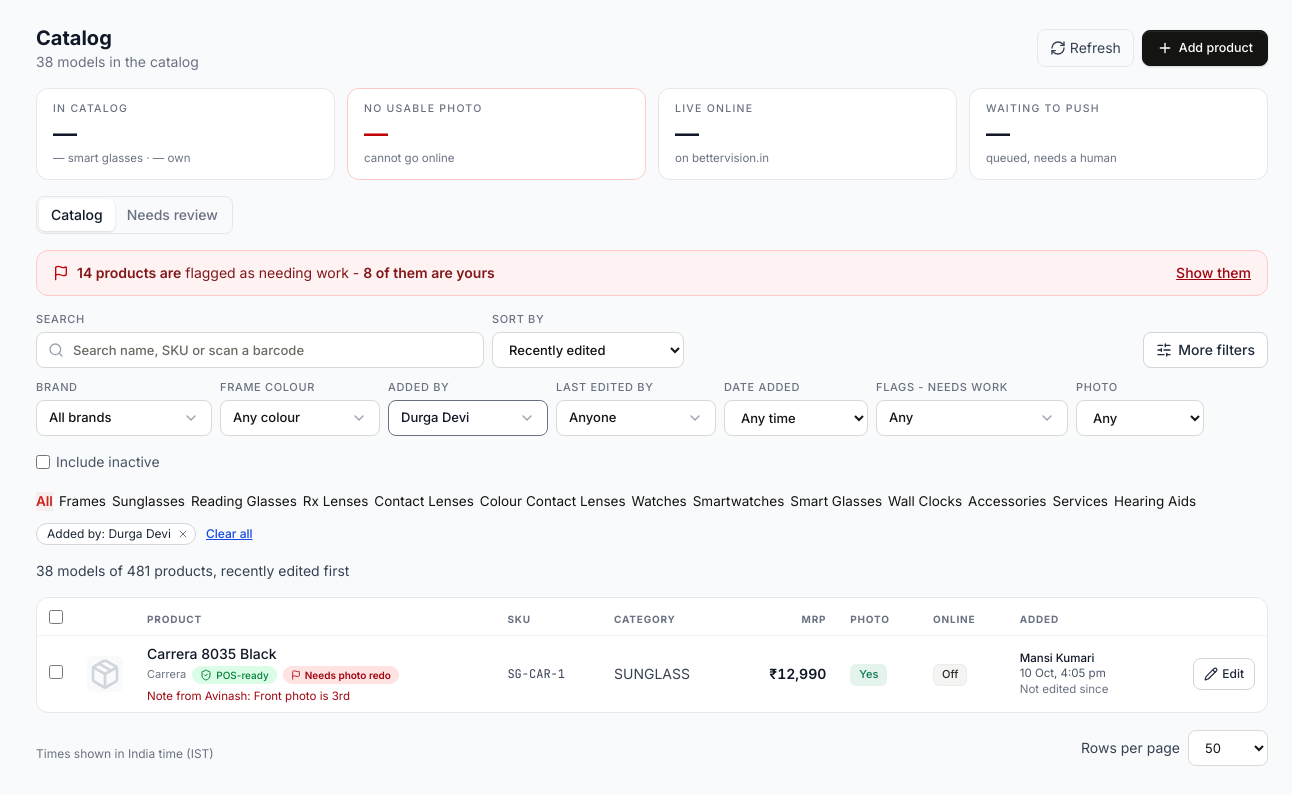
Test: Added by and Last edited by: tick boxes on the main row (owner 2026-11-01) › an old single-value link still ticks its one person
Expected: the table with test id "catalog-table" is shown, [37,598,1267,712]
Click the button with aria-label "Added by".
click(468, 418)  # box [388,400,548,436]
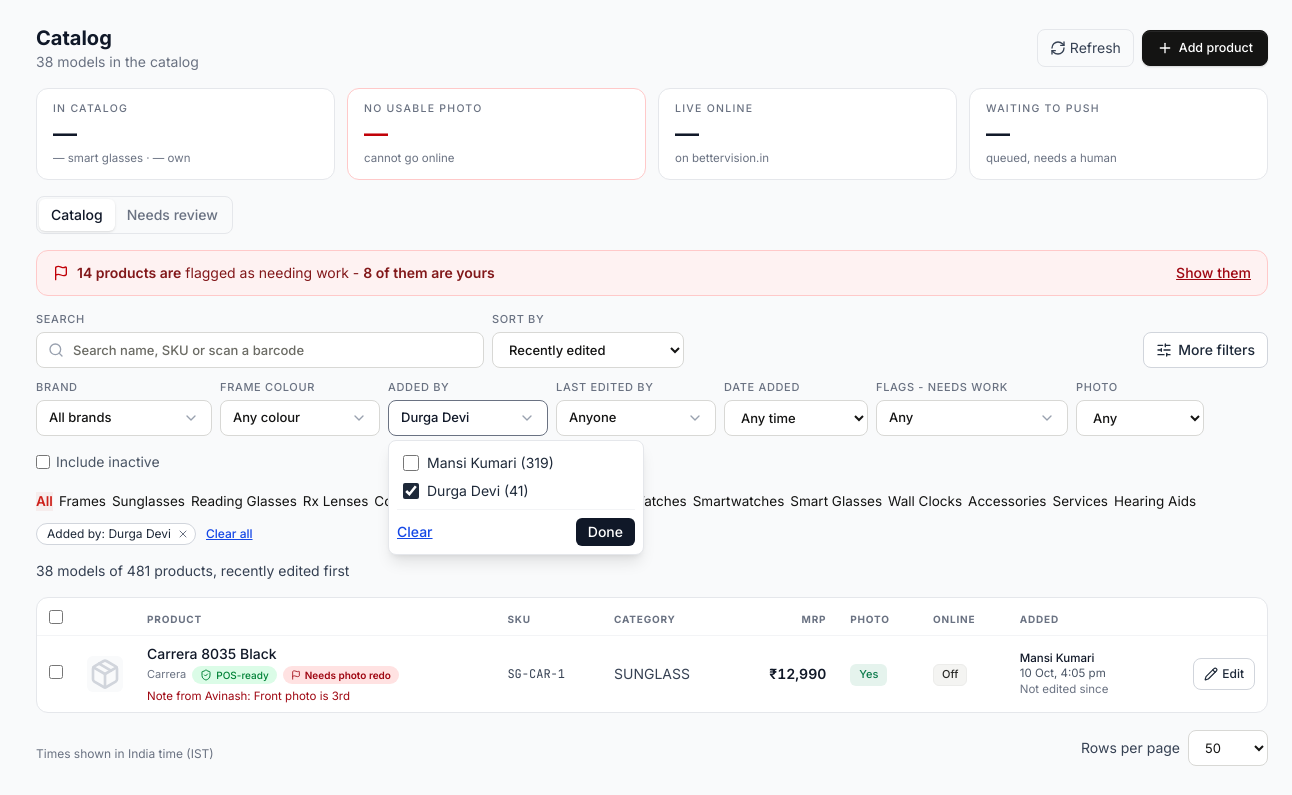
Expected: the text "Added by: Durga Devi" is shown, [36,523,196,545]
Expected: the checkbox labelled "Durga Devi (41)" is checked, [403,483,419,499]
